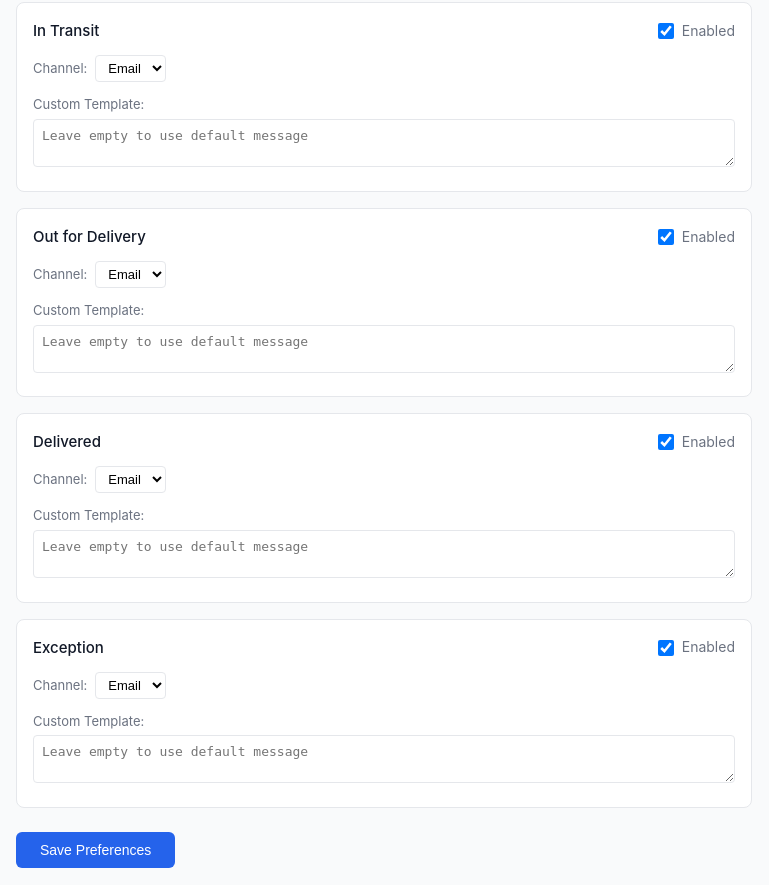
NotificationSettings › shows saving state on save button during save
The width and height of the screenshot is (769, 885).
(page scrolled)
Click the button with test id "save-button" at (96, 850), box [16, 832, 175, 868]
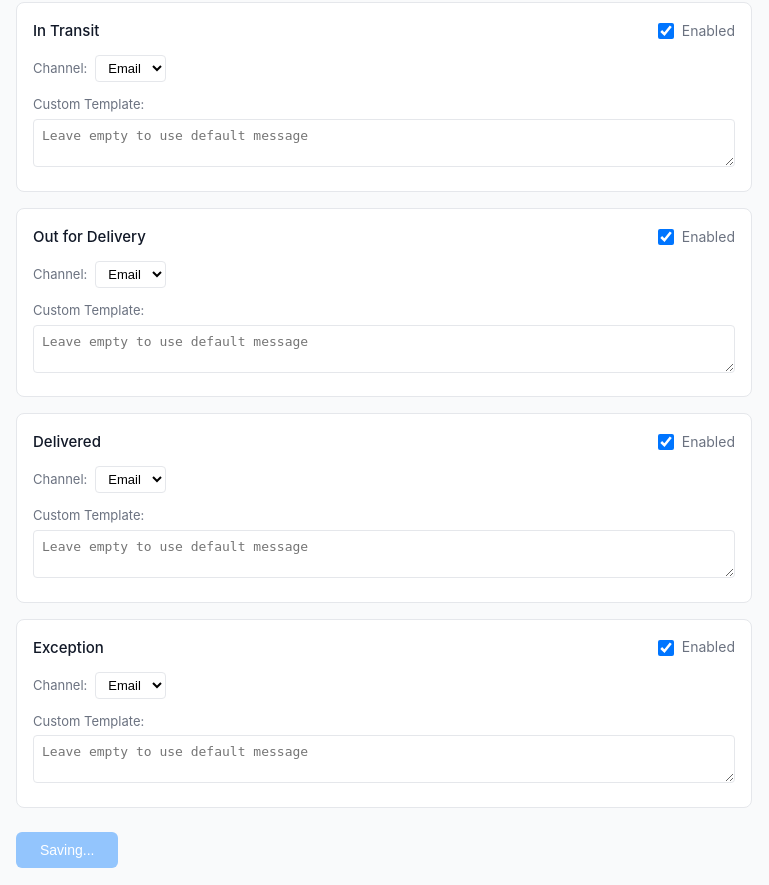
Now the button "Saving..." is shown, box [16, 832, 118, 868]
